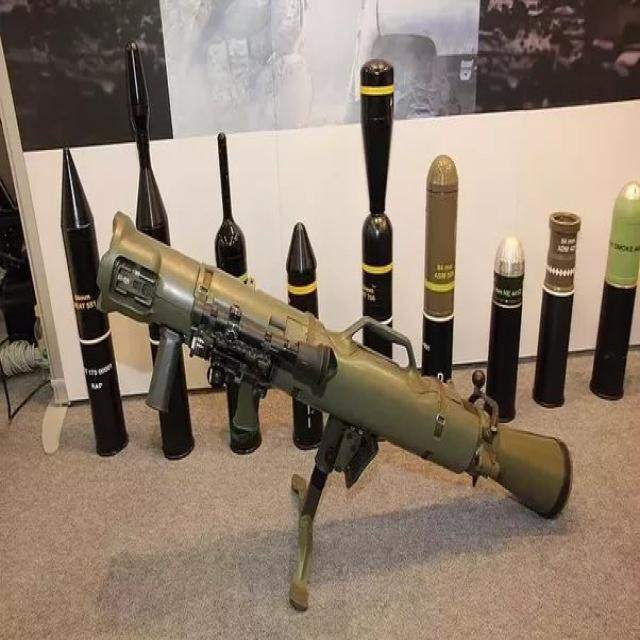bazooka: (88, 204, 579, 621)
